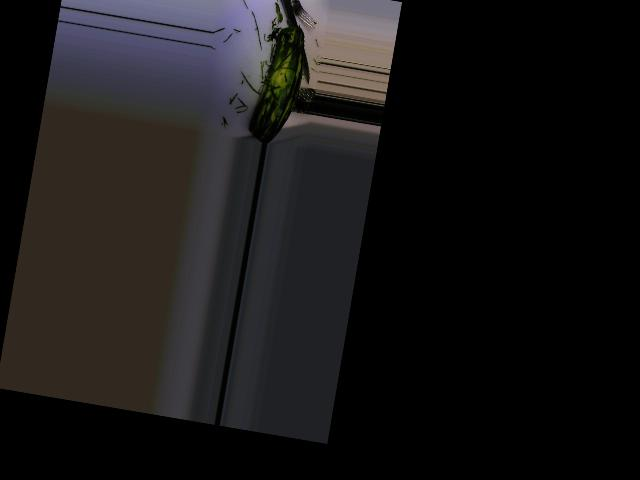cucumber: (246, 21, 309, 146)
